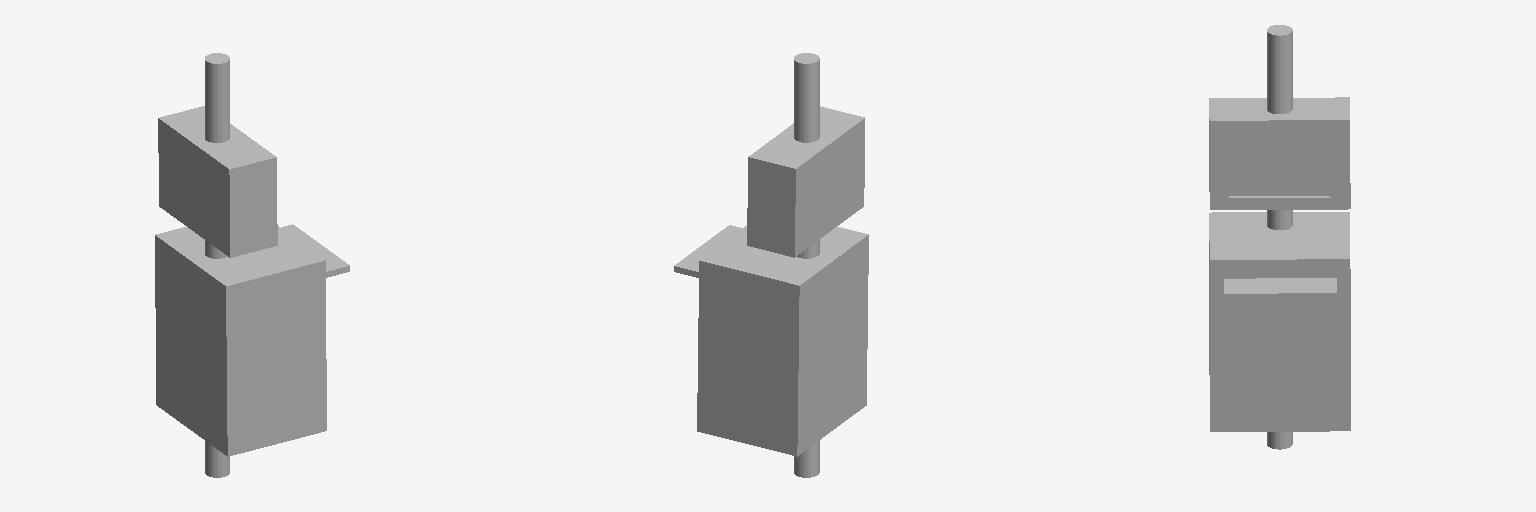
The model's file is posteinfologic.obj.
3 views of the same model, side by side, from view 1: azimuth 30°, elevation 25°; view 2: azimuth 150°, elevation 25°; view 3: azimuth 270°, elevation 25° (orthographic).
Visible parts, largest first — view 1: Cube.14135_Cube.14152; view 2: Cube.14135_Cube.14152; view 3: Cube.14135_Cube.14152.
Boxes of the visible parts, x1=… form: Cube.14135_Cube.14152: x1=155, y1=53, x2=349, y2=477; Cube.14135_Cube.14152: x1=674, y1=53, x2=868, y2=477; Cube.14135_Cube.14152: x1=1209, y1=25, x2=1350, y2=449.
Bounding box in the file's own units: 2.01 × 5.98 × 1.86.